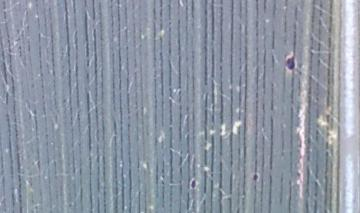tarspot: (283, 49, 300, 76), (187, 177, 200, 192), (250, 170, 262, 184)
